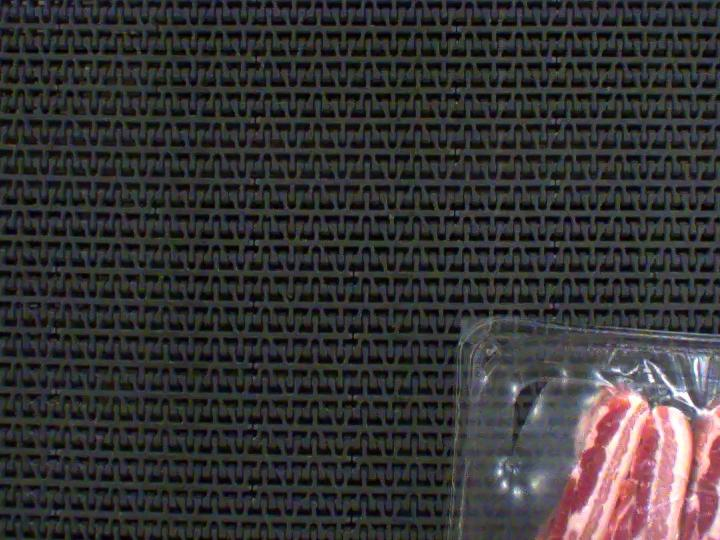unsealed: (470, 315, 720, 540)
